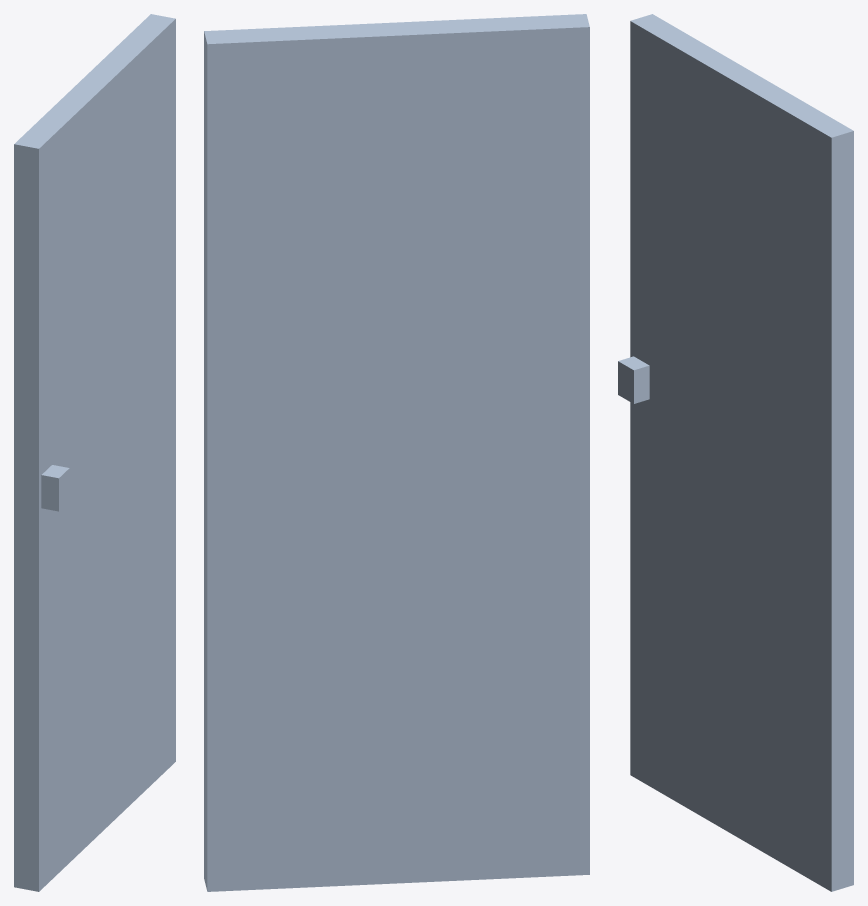
The model's file is Wardroob_Door.fbx.
3 views of the same model, side by side, from view 1: azimuth 30°, elevation 25°; view 2: azimuth 150°, elevation 25°; view 3: azimuth 270°, elevation 25° (orthographic). The views are drawn at different scales.
Parts seen in each view (by area): view 1: Cube.011; view 2: Cube.011; view 3: Cube.011.
Boxes of the visible parts, x1,y1,x2,y2 form: Cube.011: (14,14,175,891); Cube.011: (204,14,589,891); Cube.011: (618,14,853,891).
Size of the model in its own units: 76.49 by 217 by 61.59.
